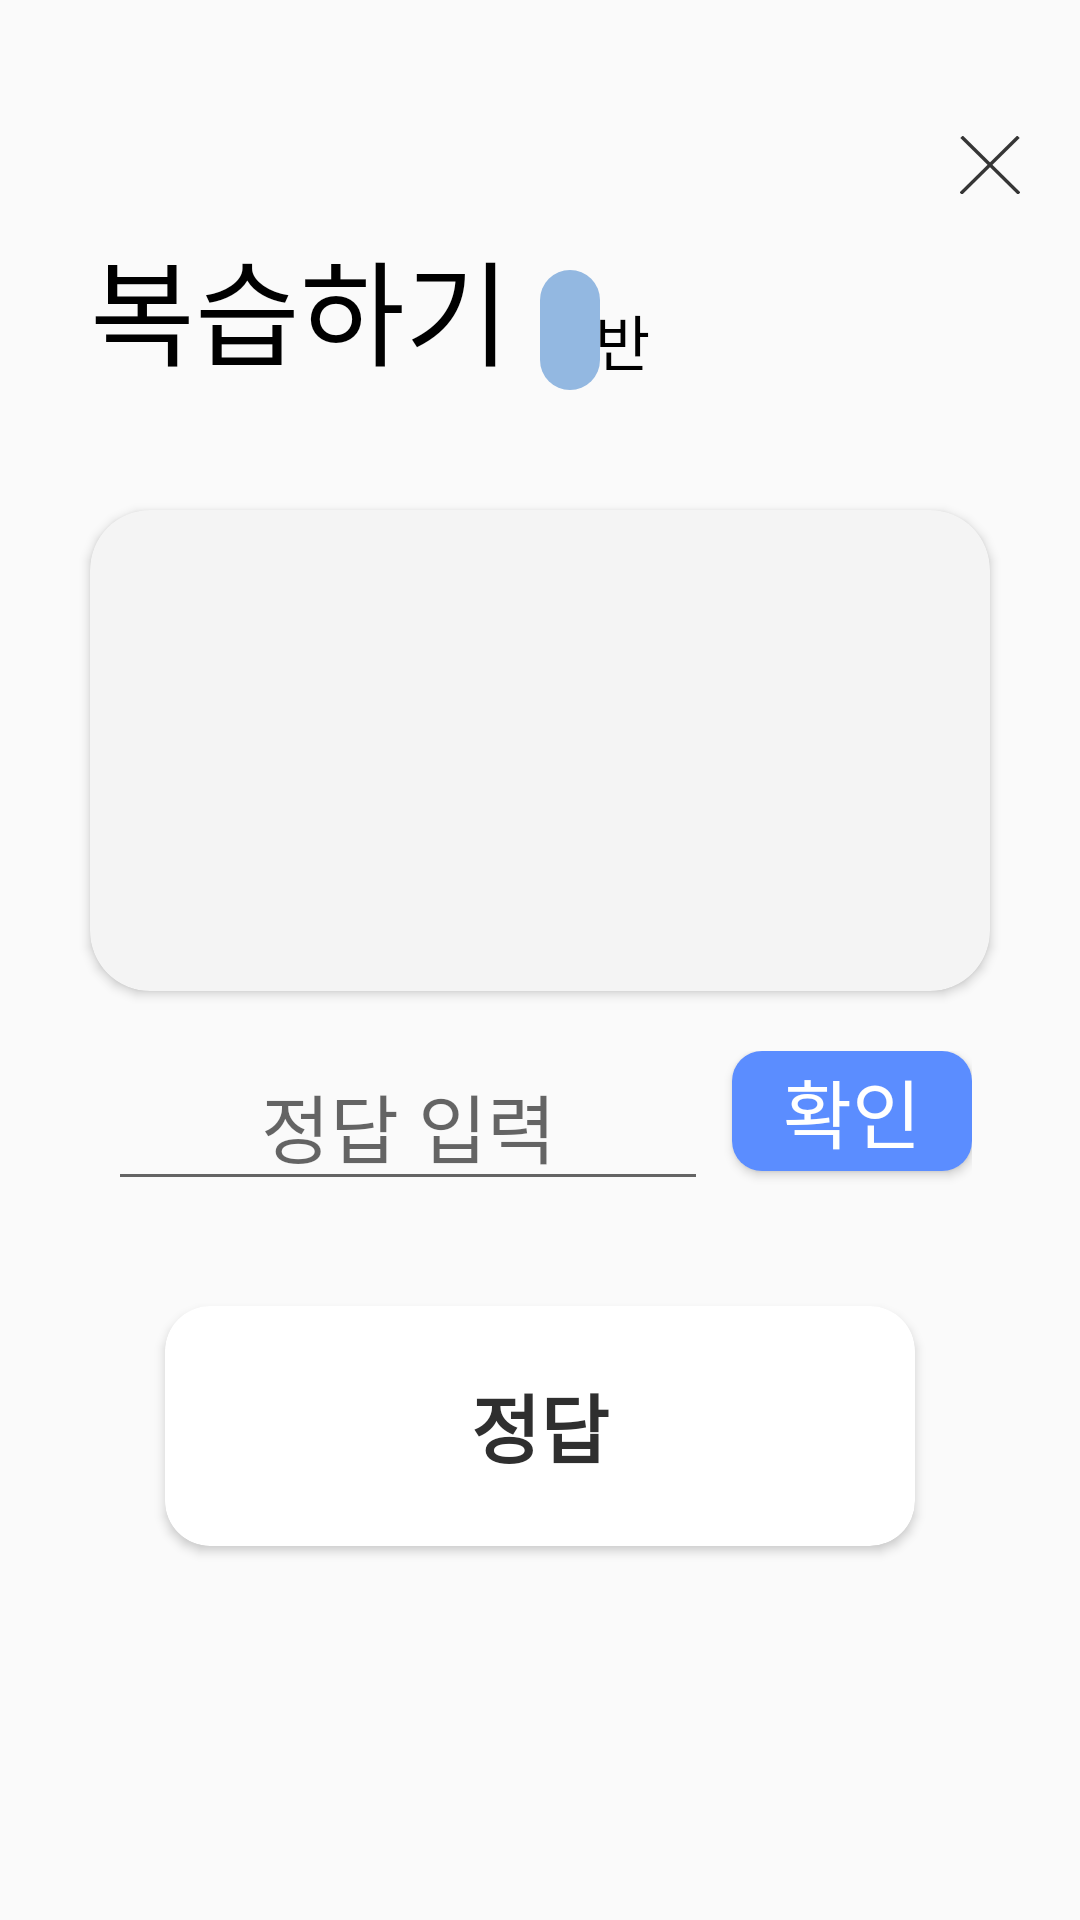

Icon bounding boxes for this 1080 x 1920 phone screenshot, format (x1, y1, x2, y2):
close: (960, 136, 1020, 194)
